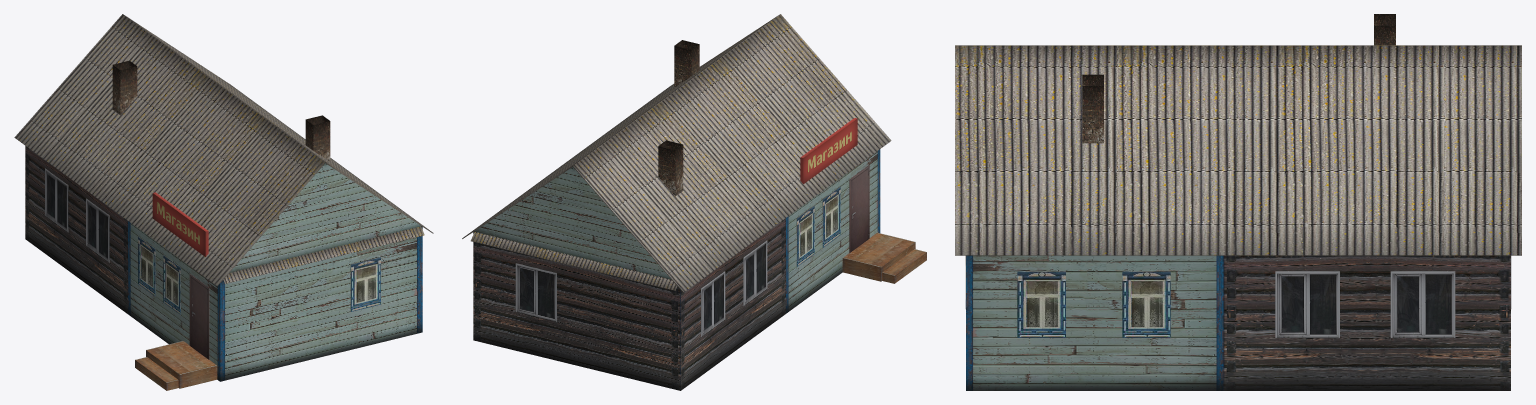
Rendered from r402_tushnolobovo_magazin.FBX.
3 renders of one model, left to right at view 1: azimuth 30°, elevation 25°; view 2: azimuth 150°, elevation 25°; view 3: azimuth 270°, elevation 25°, orthographic. The views are drawn at different scales.
Visible parts, largest first — view 1: r402_tushnolobovo_magazin; view 2: r402_tushnolobovo_magazin; view 3: r402_tushnolobovo_magazin.
Part boxes in pixels (bbox=[...]): r402_tushnolobovo_magazin: bbox=[14, 14, 433, 390]; r402_tushnolobovo_magazin: bbox=[462, 14, 926, 390]; r402_tushnolobovo_magazin: bbox=[955, 14, 1521, 390].
Bounding box in the file's own units: 768 × 1041 × 560.
